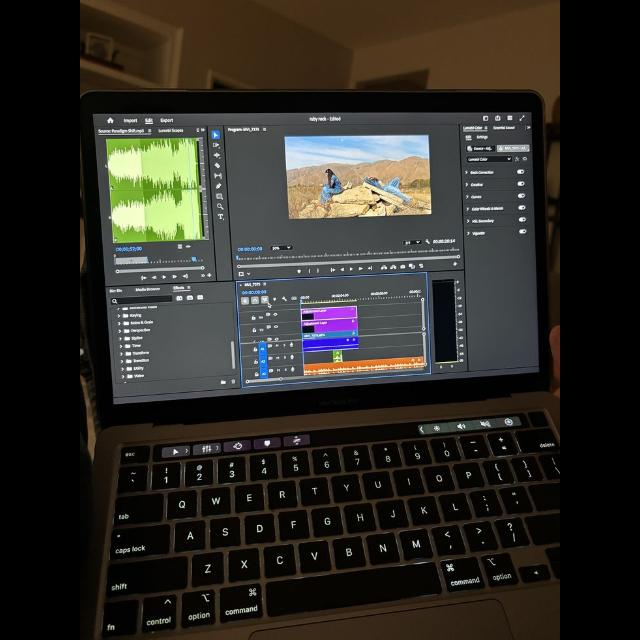laptop: (84, 88, 560, 612)
